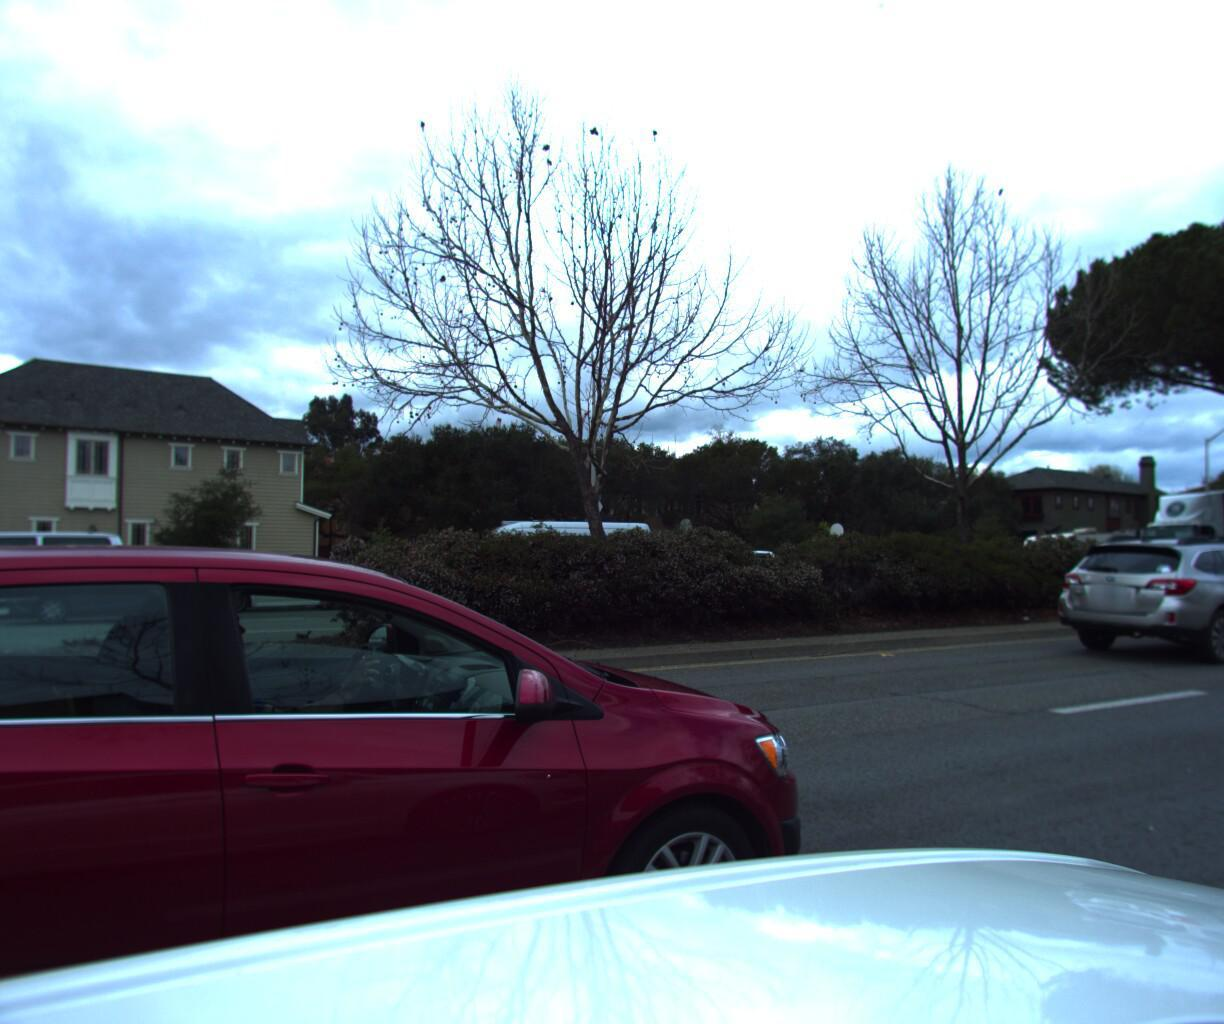car: (0, 507, 842, 1024), (415, 513, 668, 618), (1042, 531, 1224, 673), (2, 549, 244, 625), (0, 527, 137, 633), (183, 564, 366, 626)
other_vehicle: (1003, 526, 1167, 595)
truck: (1120, 488, 1224, 606)
